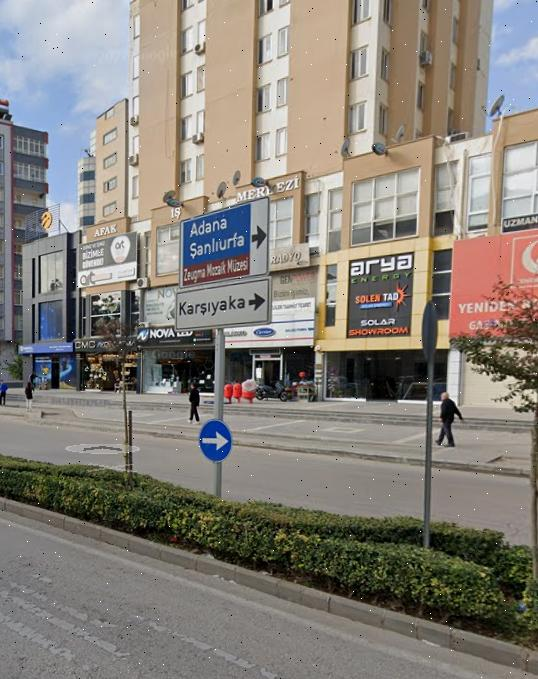turnright: (198, 420, 232, 462)
